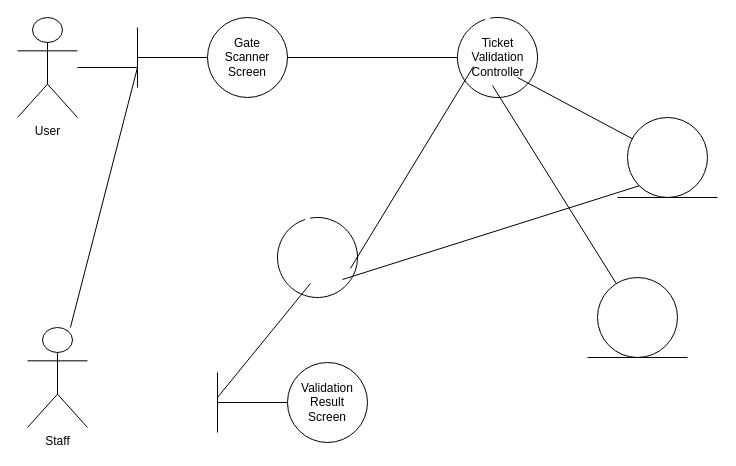
The diagram is 736 pixels wide and 466 high, and some of its shapes have lost their labels. The centre of each missing label's shape, as x and y in pixels:
"Concert" goes at point 637,317.
"Entry Authorization Controller" goes at point 317,257.
"Ticket" goes at point 667,157.
